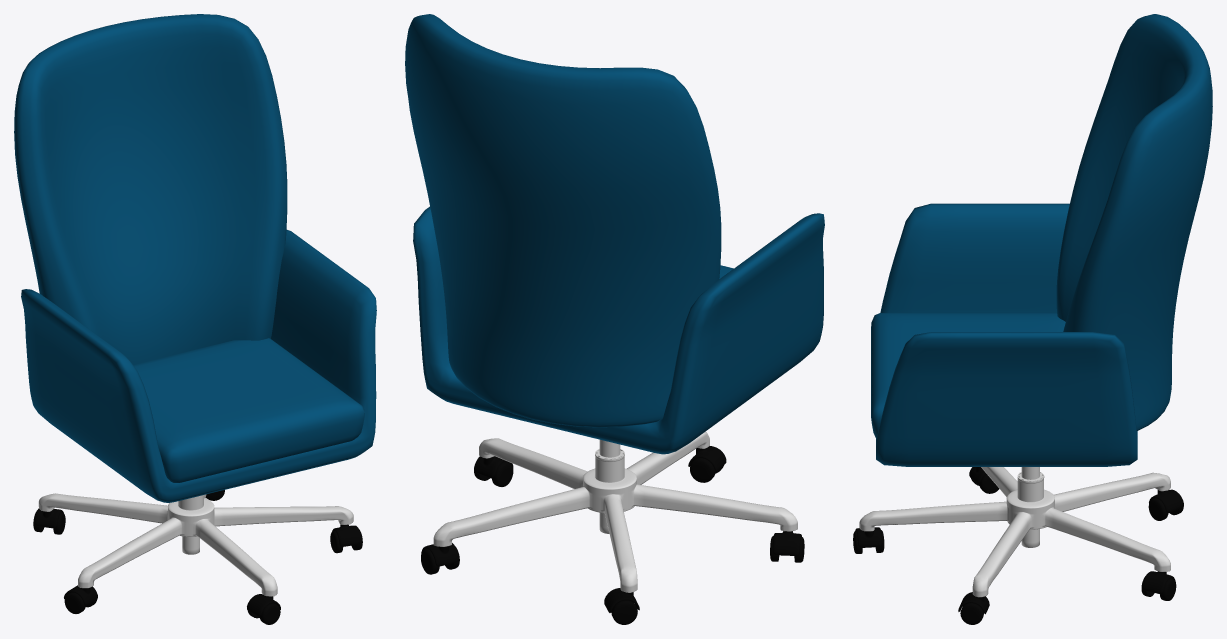
The model's file is seat_big_blue.glb.
The picture shows the model from 3 angles, left to right: view 1: azimuth 30°, elevation 25°; view 2: azimuth 150°, elevation 25°; view 3: azimuth 270°, elevation 25°; orthographic projection. The views are drawn at different scales.
Visible parts, largest first — view 1: seat_side_low_7, pasted__pCylinder1_7; view 2: seat_side_low_7, pasted__pCylinder1_7; view 3: seat_side_low_7, pasted__pCylinder1_7.
Boxes of the visible parts, x1,y1,x2,y2 form: seat_side_low_7: (14, 14, 376, 502); pasted__pCylinder1_7: (33, 490, 362, 624); seat_side_low_7: (405, 14, 824, 454); pasted__pCylinder1_7: (421, 431, 804, 624); seat_side_low_7: (871, 14, 1212, 466); pasted__pCylinder1_7: (853, 467, 1183, 624).
Bounding box in the file's own units: 0.772 × 1.22 × 0.8101.
